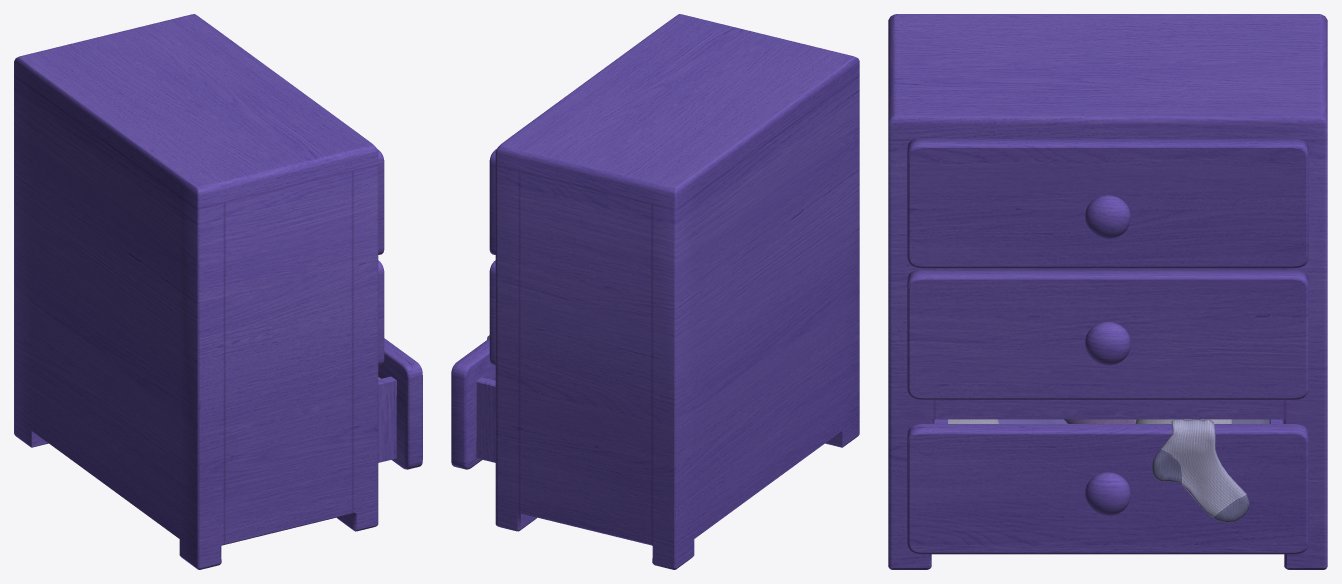
The model's file is Drawers.glb.
3 renders of one model, left to right at view 1: azimuth 30°, elevation 25°; view 2: azimuth 150°, elevation 25°; view 3: azimuth 270°, elevation 25°, orthographic. The views are drawn at different scales.
Parts seen in each view (by area): view 1: Drawers.001; view 2: Drawers.001; view 3: Drawers.001.
Boxes of the visible parts, <box> form: Drawers.001: <box>14,14,422,569</box>; Drawers.001: <box>451,14,859,569</box>; Drawers.001: <box>888,14,1327,569</box>.
Bounding box in the file's own units: 9.67 × 13.67 × 12.02.
Materials: 1 (1 with a texture image).
